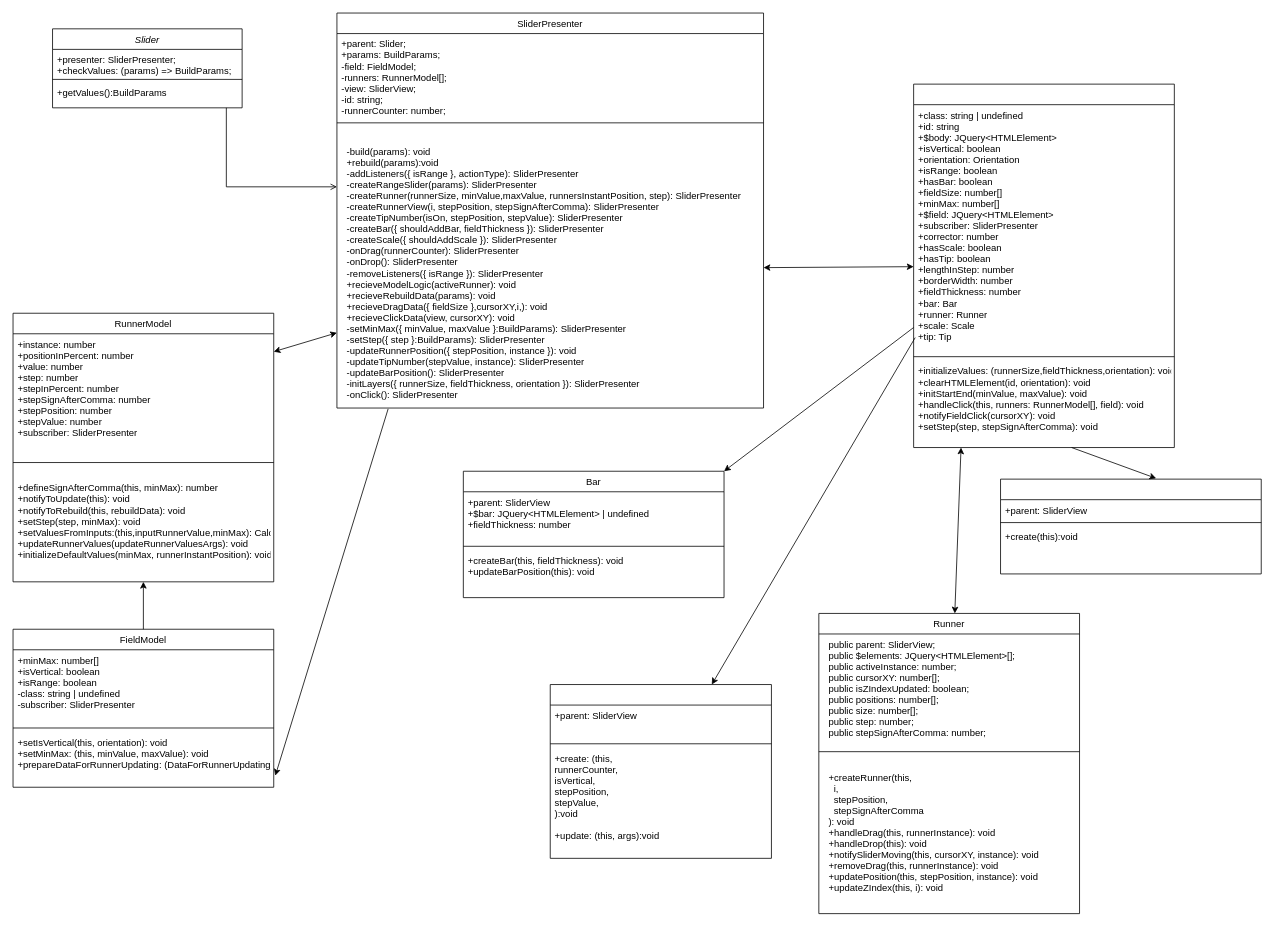
The diagram is 1274 pixels wide and 927 high, and some of its shapes have lost their labels. Each missing label, with the box of its shape:
Scale: (1000, 478, 1261, 574)
SliderView: (913, 83, 1174, 448)
Tip: (549, 684, 771, 858)
